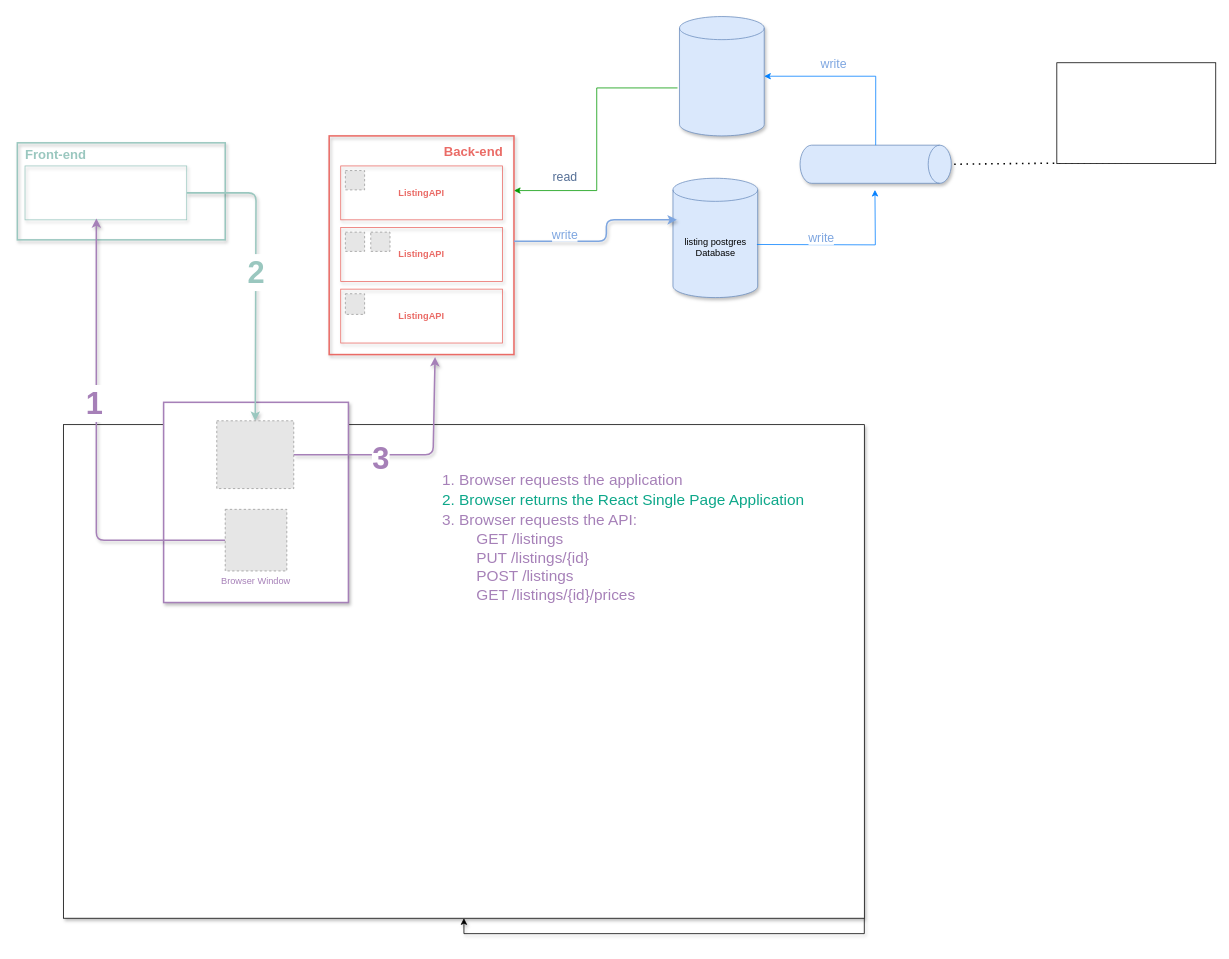
The diagram is 1229 pixels wide and 959 high, and some of its shapes have lost their labels. Grey dashed boxes stand in for pictures. Here are the shapes that lost their labels. From the top down, the centre of each, then its label:
At point 722,77: "listing price log No SQL Database".
At point 1136,113: "Kafka connect".
At point 106,193: "HTTP Server".
